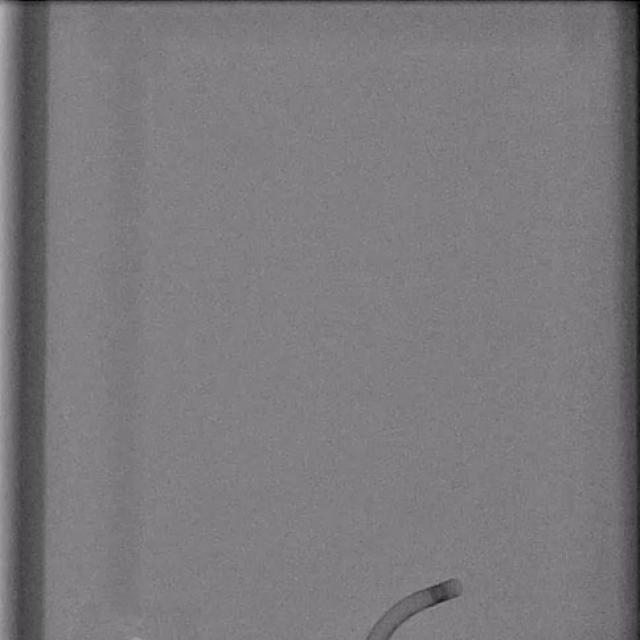entry: (367, 634, 390, 640)
marker: (426, 582, 451, 603)
tip: (452, 578, 462, 596)
